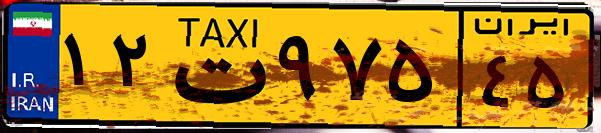1: (57, 26, 110, 100)
2: (110, 28, 158, 98)
4: (475, 38, 525, 113)
5: (385, 28, 445, 110), (525, 38, 570, 115)
7: (330, 28, 385, 110)
9: (270, 28, 330, 110)
ت: (158, 12, 270, 120)
